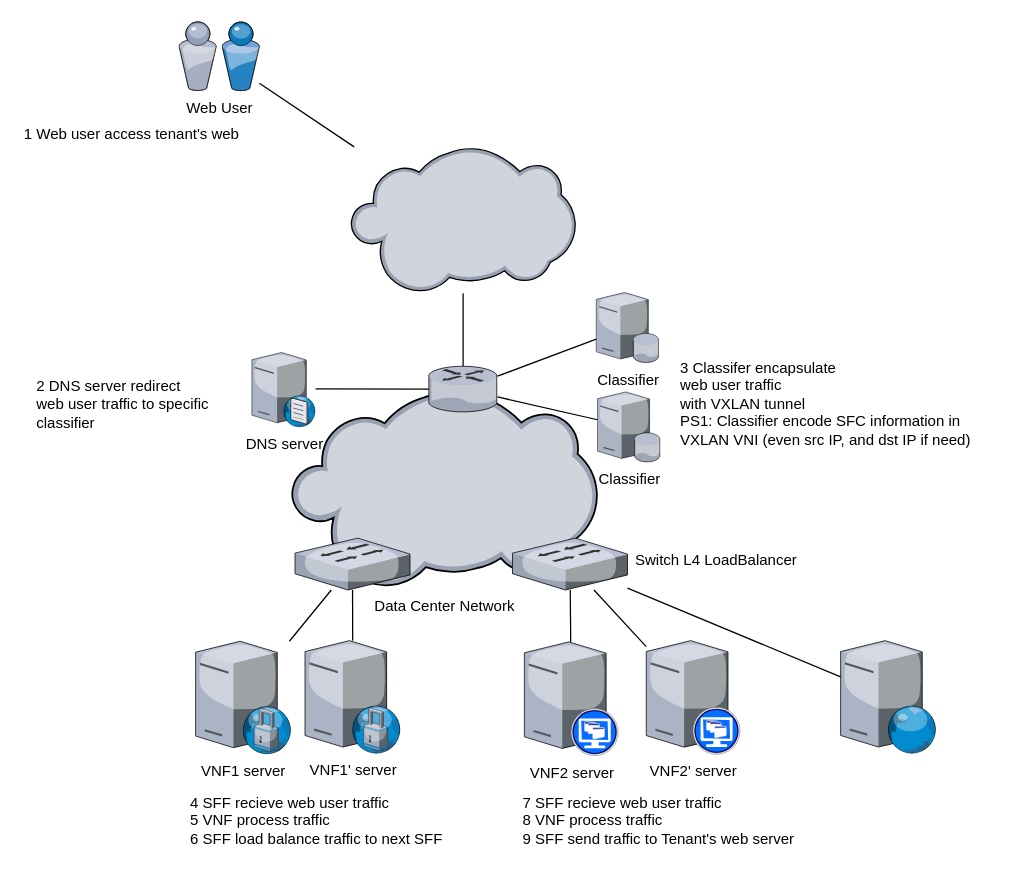
This 1011x869 diagram has some shape labels left out. Each missing label, with the centre of its shape:
"DCN Gateway" belongs at [462,388].
"Internet" belongs at [462,219].
"Tenant's web server" belongs at [888,696].
